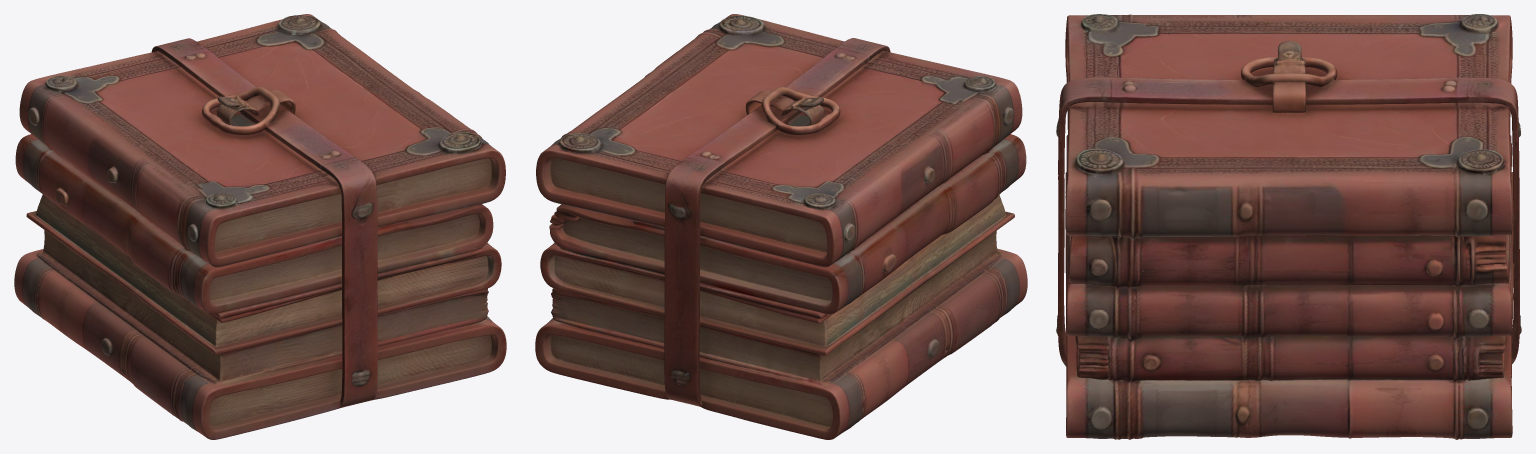
The model's file is detailed_realistic_model_stack_01.glb.
3 views of the same model, side by side, from view 1: azimuth 30°, elevation 25°; view 2: azimuth 150°, elevation 25°; view 3: azimuth 270°, elevation 25° (orthographic). The views are drawn at different scales.
Parts seen in each view (by area): view 1: tripo_node_ef6d8d39-7d53-447a-a475-46b46b976f87; view 2: tripo_node_ef6d8d39-7d53-447a-a475-46b46b976f87; view 3: tripo_node_ef6d8d39-7d53-447a-a475-46b46b976f87.
Boxes of the visible parts, x1,y1,x2,y2 form: tripo_node_ef6d8d39-7d53-447a-a475-46b46b976f87: (14,14,506,439); tripo_node_ef6d8d39-7d53-447a-a475-46b46b976f87: (535,14,1027,439); tripo_node_ef6d8d39-7d53-447a-a475-46b46b976f87: (1056,14,1521,439).
Size of the model in its own units: 0.9181 by 0.7458 by 1.
Materials: 1 (1 with a texture image).
